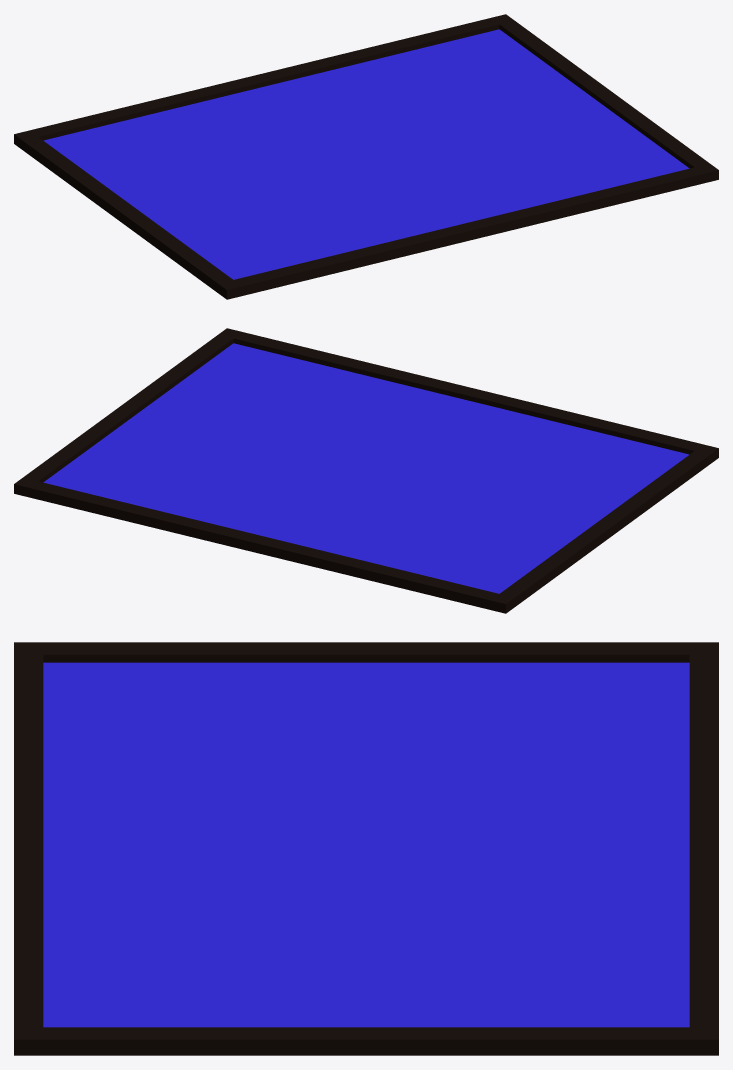
File: SM_Mirror_2_Debris.fbx
The picture shows the model from 3 angles, top to bottom: view 1: azimuth 30°, elevation 25°; view 2: azimuth 150°, elevation 25°; view 3: azimuth 270°, elevation 25°; orthographic projection. The views are drawn at different scales.
Parts seen in each view (by area): view 1: Glass, Frame, Glass_cell.021, Glass_cell.005, Glass_cell.038, Glass_cell.030, Glass_cell.035, Glass_cell.041, Glass_cell.042, Glass_cell.043, Glass_cell.012, Glass_cell.049 (+9 smaller); view 2: Glass, Frame, Glass_cell.021, Glass_cell.005, Glass_cell.038, Glass_cell.035, Glass_cell.030, Glass_cell.042, Glass_cell.012, Glass_cell.041, Glass_cell.043, Glass_cell.049 (+10 smaller); view 3: Glass, Frame, Glass_cell.021, Glass_cell.005, Glass_cell.030, Glass_cell.035, Glass_cell.041, Glass_cell.042, Glass_cell.038, Glass_cell.043, Glass_cell.049, Glass_cell.018 (+11 smaller).
Part boxes in pixels (x1,y1,x2,y2): Glass: [108, 39, 689, 279]; Frame: [14, 14, 718, 299]; Glass_cell.021: [149, 94, 300, 151]; Glass_cell.005: [43, 118, 163, 183]; Glass_cell.038: [470, 38, 577, 93]; Glass_cell.030: [102, 155, 206, 208]; Glass_cell.035: [174, 146, 266, 200]; Glass_cell.041: [353, 33, 498, 77]; Glass_cell.042: [293, 90, 374, 142]; Glass_cell.043: [376, 63, 487, 97]; Glass_cell.012: [246, 139, 365, 189]; Glass_cell.049: [382, 102, 456, 135]; Glass: [55, 343, 689, 592]; Frame: [14, 328, 718, 613]; Glass_cell.021: [276, 506, 430, 568]; Glass_cell.005: [398, 547, 552, 593]; Glass_cell.038: [51, 429, 161, 480]; Glass_cell.035: [416, 492, 534, 542]; Glass_cell.030: [462, 504, 576, 554]; Glass_cell.042: [244, 489, 366, 524]; Glass_cell.012: [368, 461, 481, 517]; Glass_cell.041: [58, 480, 205, 519]; Glass_cell.043: [122, 462, 210, 506]; Glass_cell.049: [217, 449, 281, 490]; Glass: [43, 662, 689, 1027]; Frame: [14, 642, 718, 1055]; Glass_cell.021: [485, 747, 678, 858]; Glass_cell.005: [493, 662, 689, 748]; Glass_cell.030: [326, 662, 537, 733]; Glass_cell.035: [344, 716, 543, 780]; Glass_cell.041: [600, 909, 689, 1025]; Glass_cell.042: [457, 819, 624, 897]; Glass_cell.038: [433, 980, 651, 1027]; Glass_cell.043: [494, 920, 625, 989]; Glass_cell.049: [366, 899, 525, 945]; Glass_cell.018: [351, 828, 460, 880].
Size of the model in its own units: 800 by 15 by 600.
